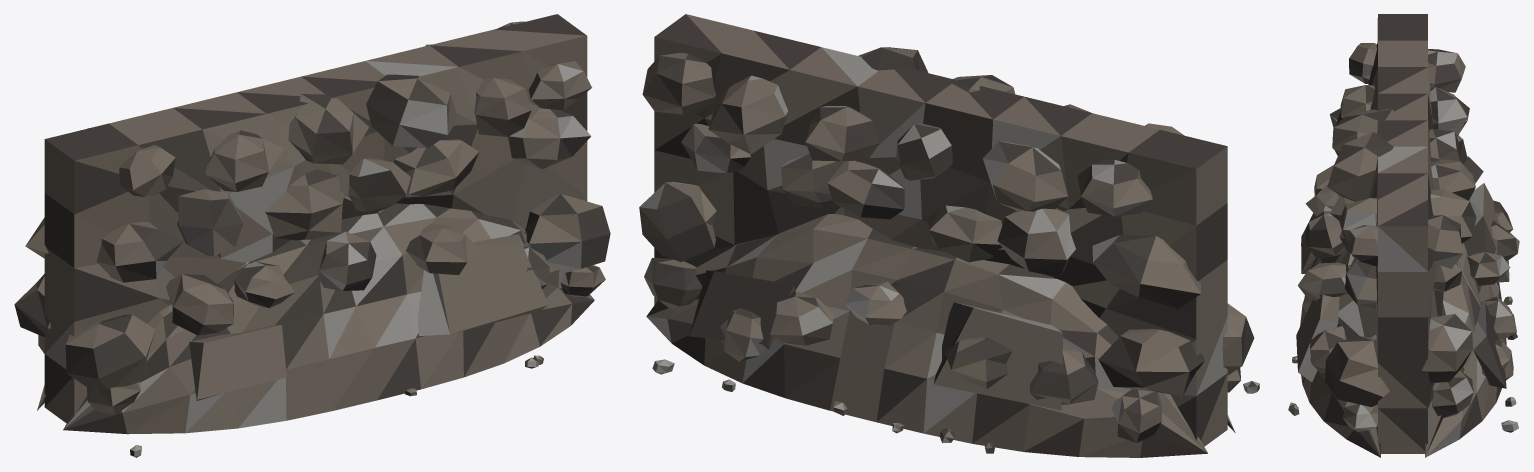
Rendered from Kit_Rubble_Tunnel.fbx.
The picture shows the model from 3 angles, left to right: view 1: azimuth 30°, elevation 25°; view 2: azimuth 150°, elevation 25°; view 3: azimuth 270°, elevation 25°; orthographic projection. The views are drawn at different scales.
Visible parts, largest first — view 1: Decor; view 2: Decor; view 3: Decor.
Part boxes in pixels (x1,y1,x2,y2): Decor: [14, 14, 610, 457]; Decor: [639, 14, 1259, 457]; Decor: [1288, 14, 1519, 457].
Bounding box in the file's own units: 33.67 × 16.6 × 14.75.
